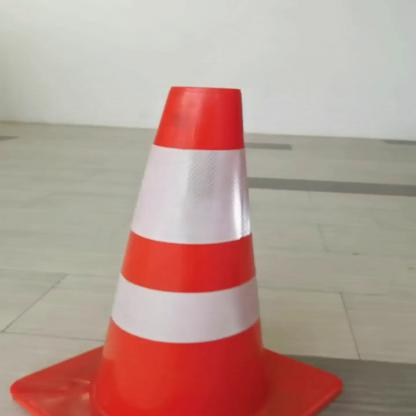cone: (0, 73, 360, 415)
